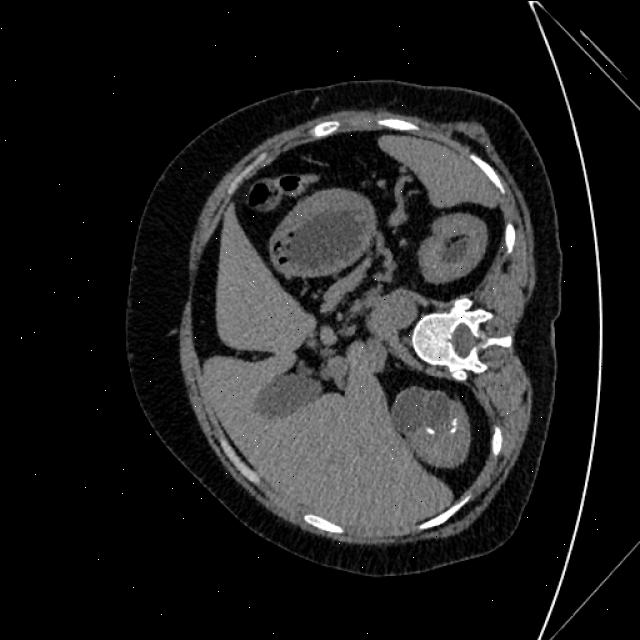kidneystone: (451, 418, 458, 432), (425, 428, 433, 439)
